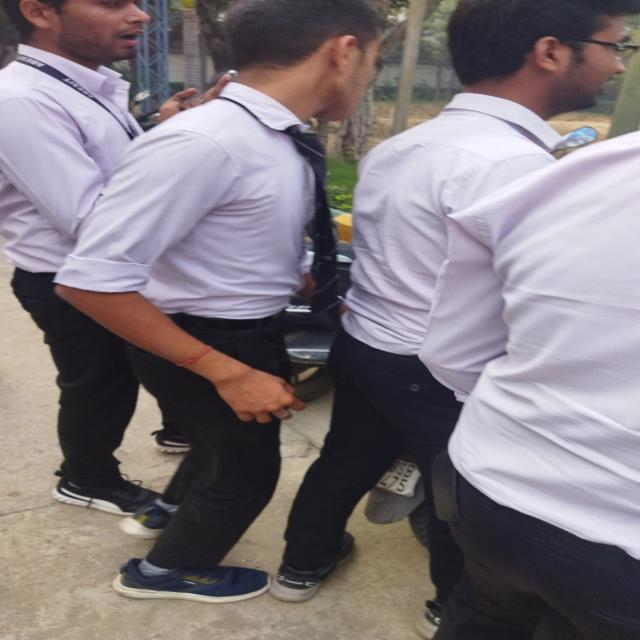unsafe: (271, 0, 640, 605), (60, 0, 410, 606), (0, 0, 183, 528)
